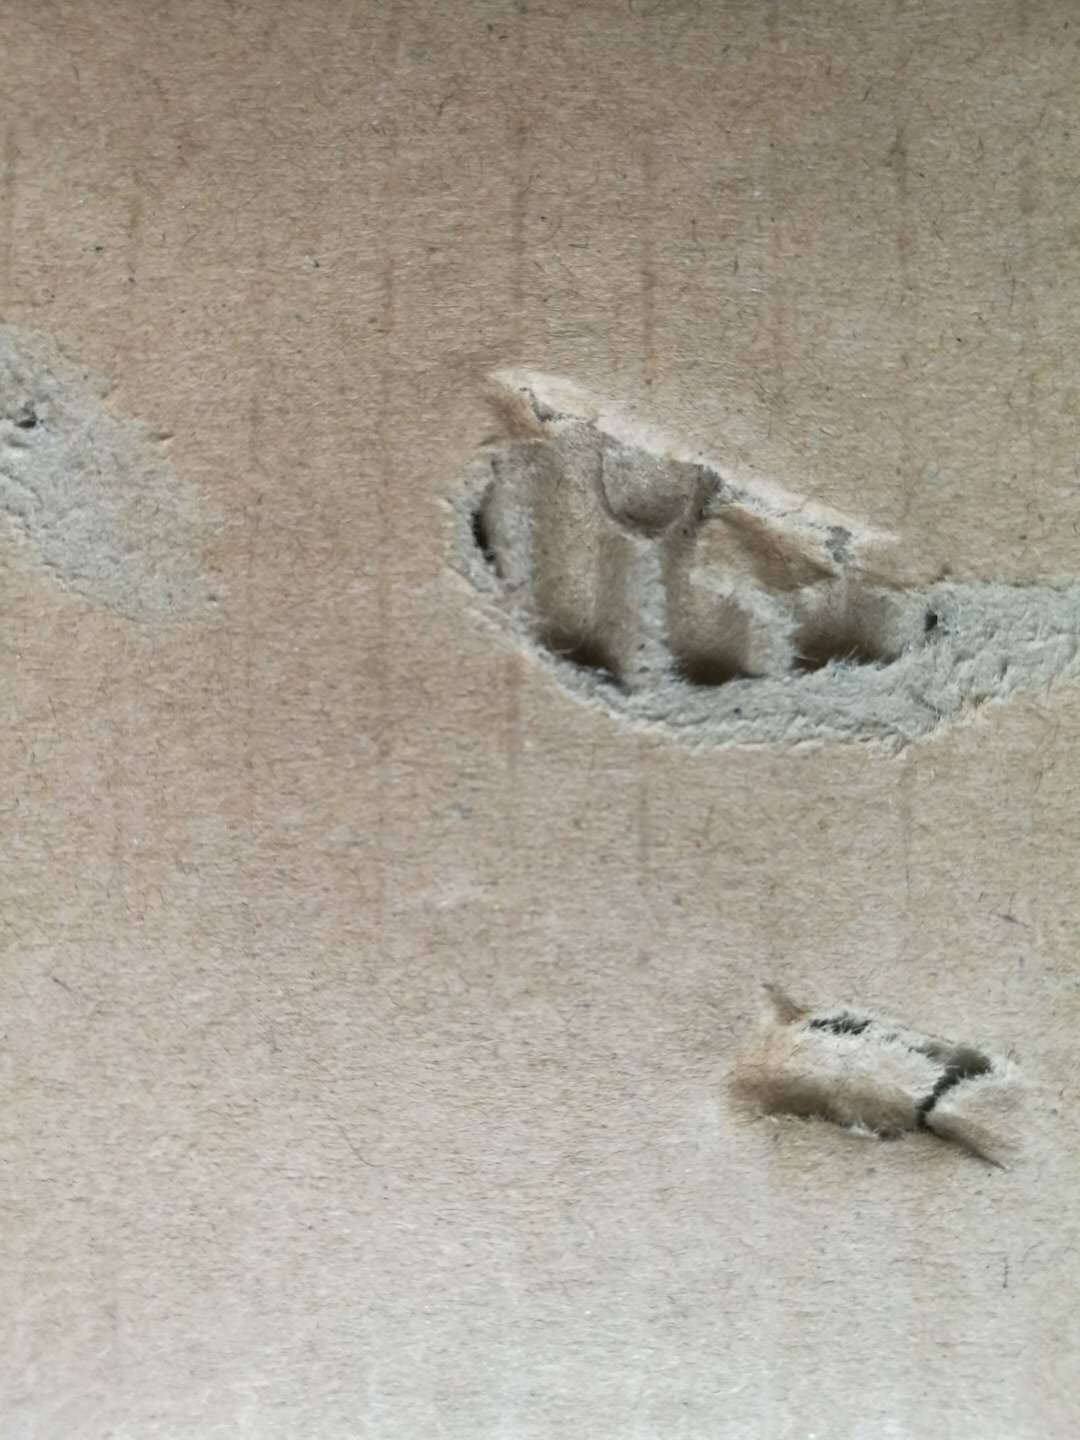defect: (377, 310, 1080, 835), (1, 287, 275, 692), (680, 945, 1066, 1210)
